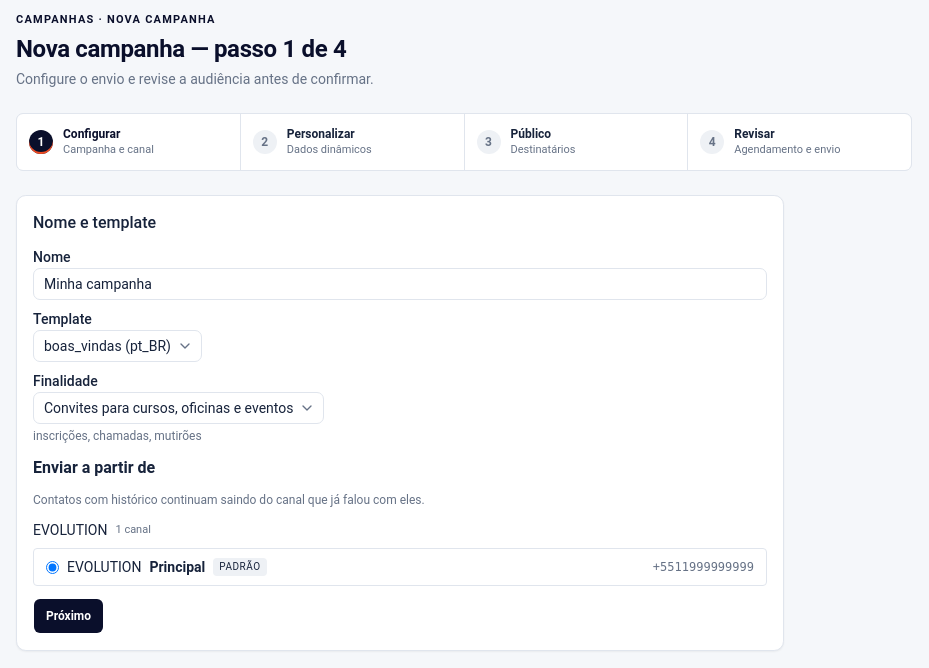
NewCampaignPage characterization — step rendering & navigation › step 1 "Próximo" advances to step 2 once name/template/instance are set
Click the button "Próximo". click: (68, 616)
box: top-left (33, 598), bottom-right (104, 634)
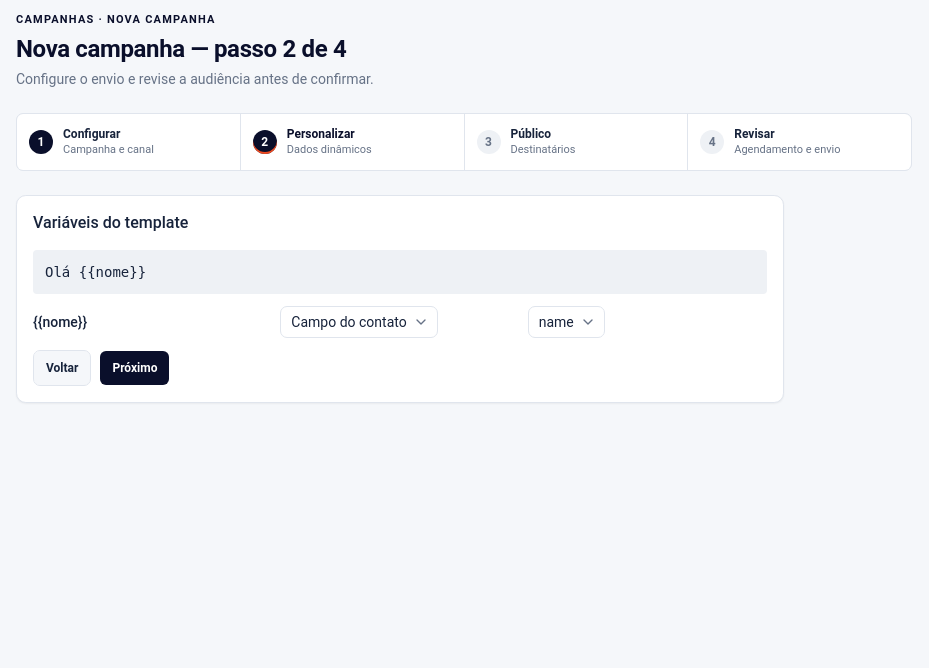
Check: the heading "Nova campanha — passo 2 de 4" is shown, box top-left (16, 34), bottom-right (346, 62)
Check: the text "Variáveis do template" is shown, box top-left (33, 213), bottom-right (188, 232)
